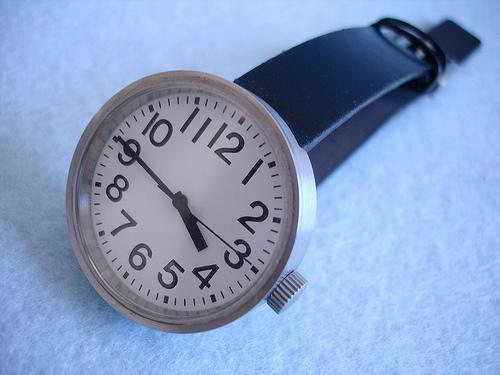watch: (63, 68, 318, 335)
